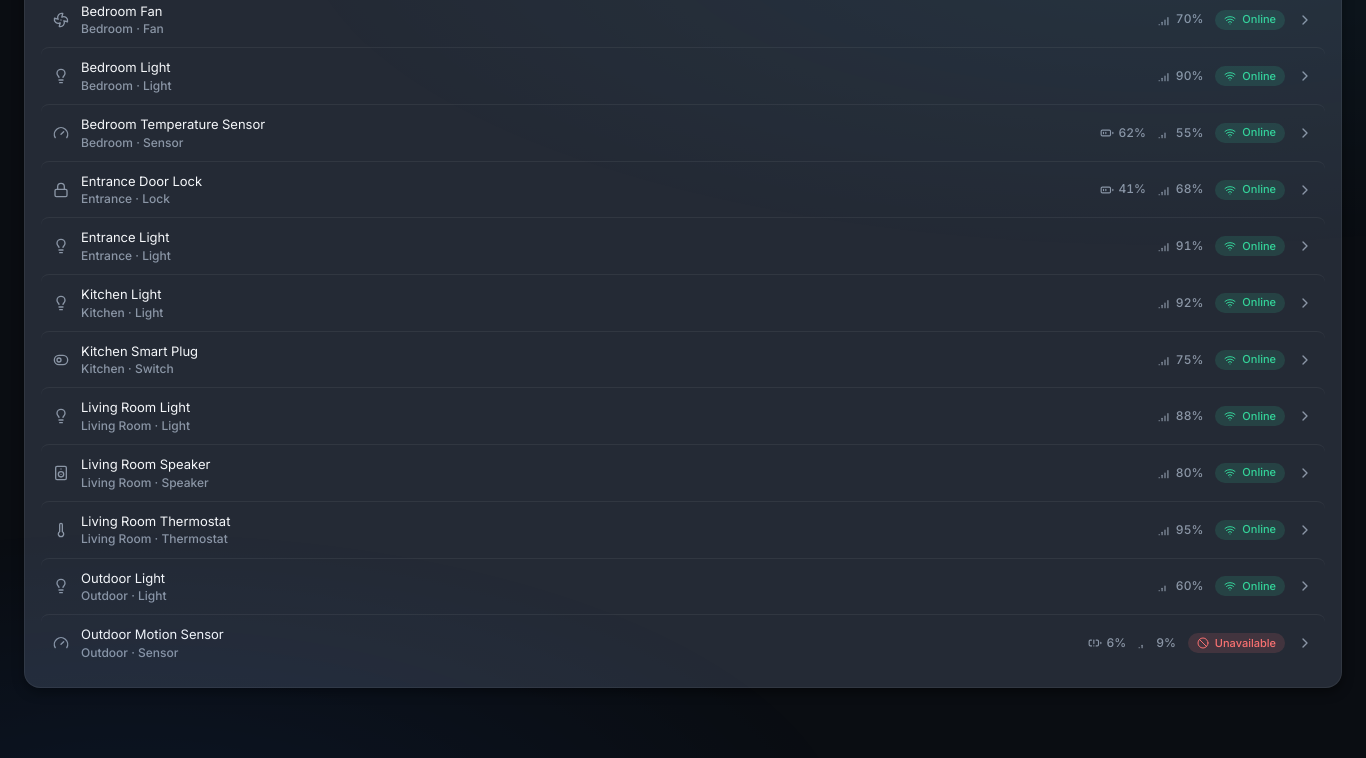
Test case: DeviceManagementPage › opens the management drawer for a device with its capabilities, state, and health/diagnostics
(page scrolled)
Step 1. Click the button with test id "device-management-row-dev-living-light" → (136, 407), box 41,388 -> 1325,444
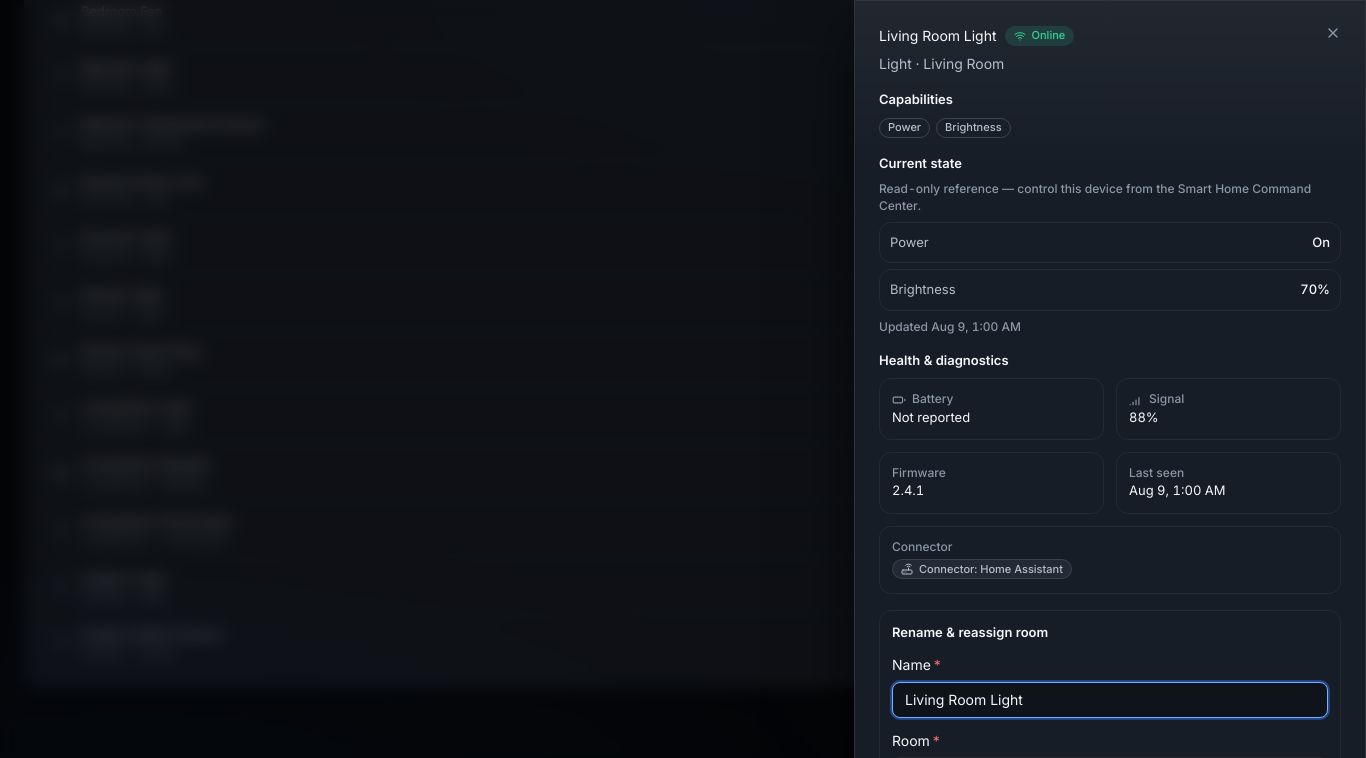
Now the heading "Living Room Light" is shown, box 879,25 -> 997,47
Now the text "Power" below "Capabilities" is shown, box 888,120 -> 921,134
Now the text with test id "device-battery-dev-living-light" reads "Not reported", box 892,409 -> 970,425
